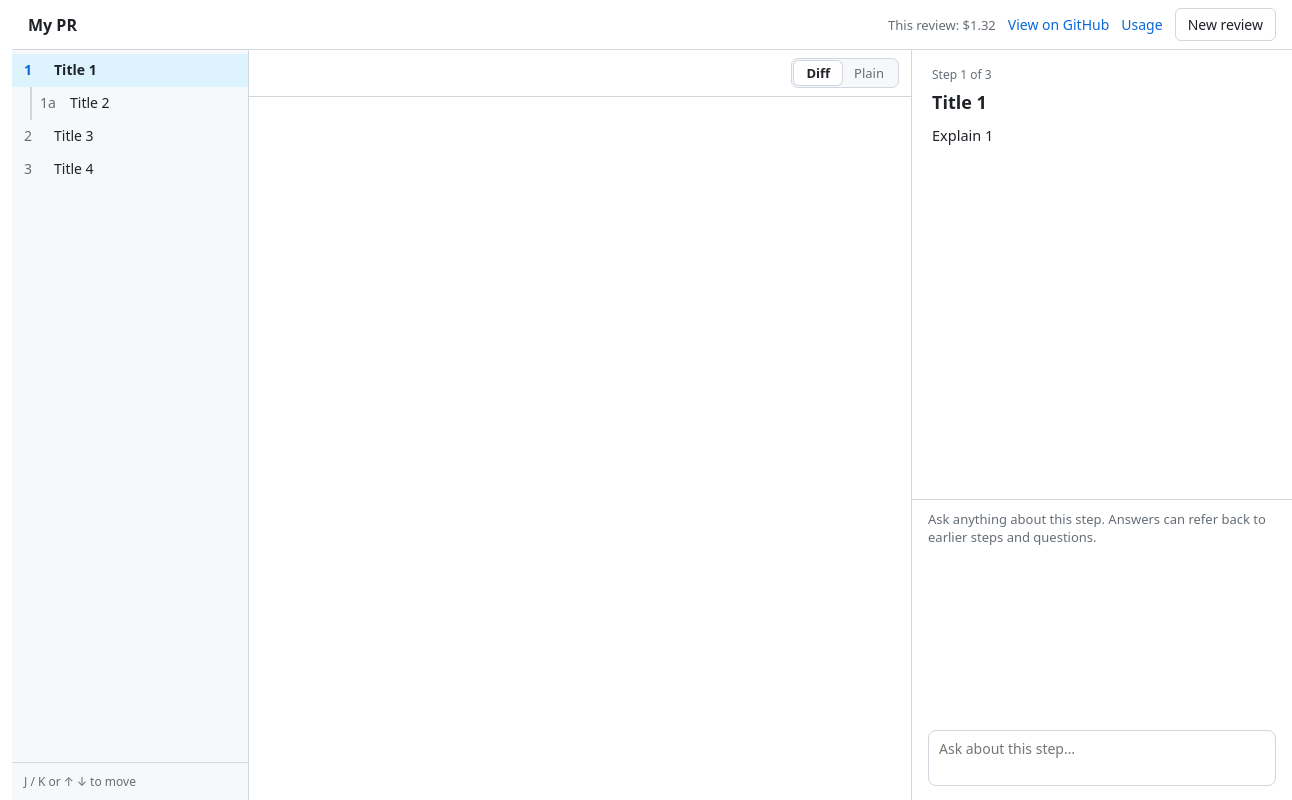
open the PR on GitHub › asks the main process to open it, and shows an error if that fails
Click the button "View on GitHub" at x=1059, y=24, box [1008,15,1109,34]
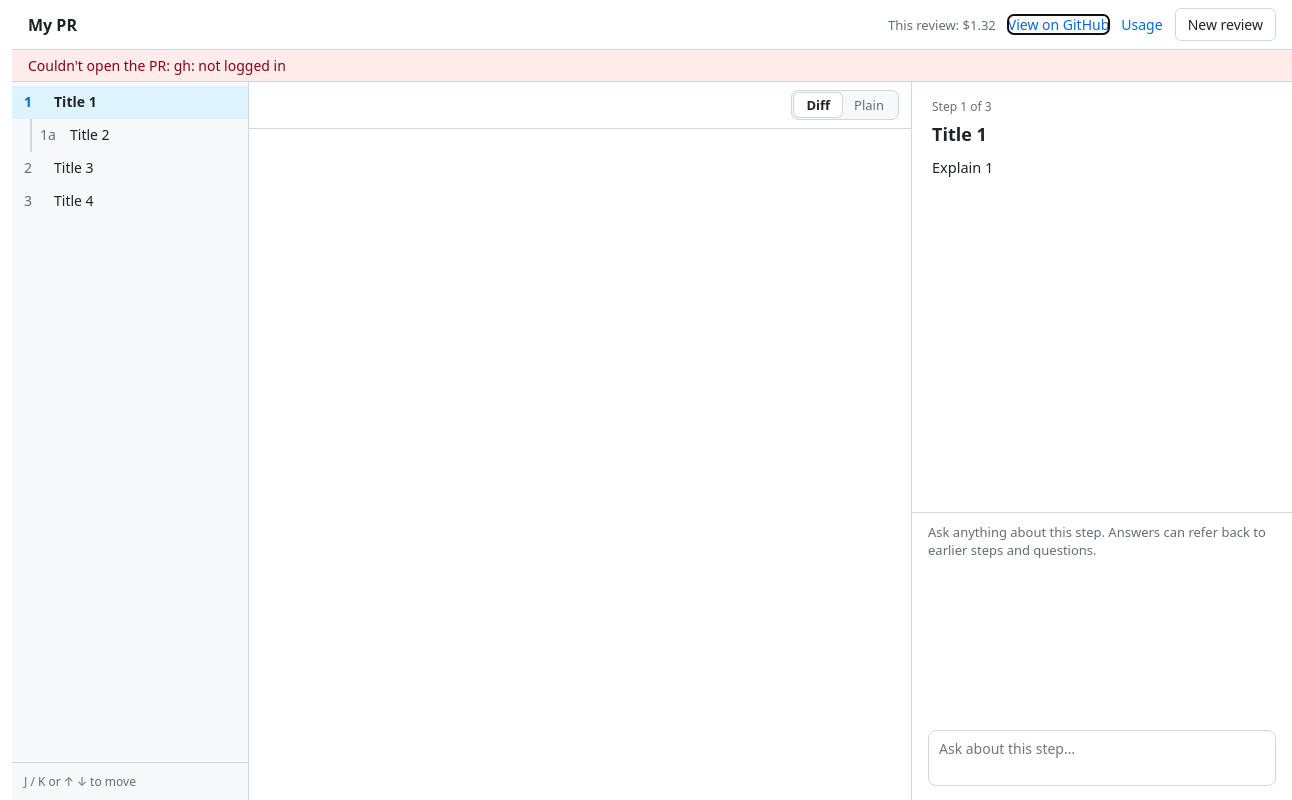
Expected: the message shows "gh: not logged in", [174,56,286,75]
